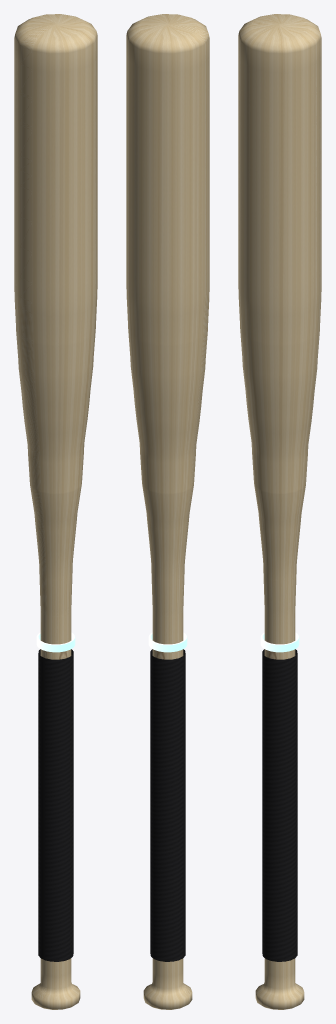
Rendered from BaseballBat.fbx.
The picture shows the model from 3 angles, left to right: view 1: azimuth 30°, elevation 25°; view 2: azimuth 150°, elevation 25°; view 3: azimuth 330°, elevation 25°; orthographic projection.
Parts seen in each view (by area): view 1: BB_BatBody, BB_Grip, BB_TealRing; view 2: BB_BatBody, BB_Grip, BB_TealRing; view 3: BB_BatBody, BB_Grip, BB_TealRing.
Boxes of the visible parts, box(x1,y1,x2,y2) form: BB_BatBody: box(14, 14, 97, 1009); BB_Grip: box(38, 649, 73, 961); BB_TealRing: box(36, 632, 75, 652); BB_BatBody: box(126, 14, 209, 1009); BB_Grip: box(150, 649, 185, 961); BB_TealRing: box(148, 632, 187, 652); BB_BatBody: box(238, 14, 321, 1009); BB_Grip: box(262, 649, 297, 961); BB_TealRing: box(260, 632, 299, 652).
Bounding box in the file's own units: 0.065 × 0.84 × 0.0634.
